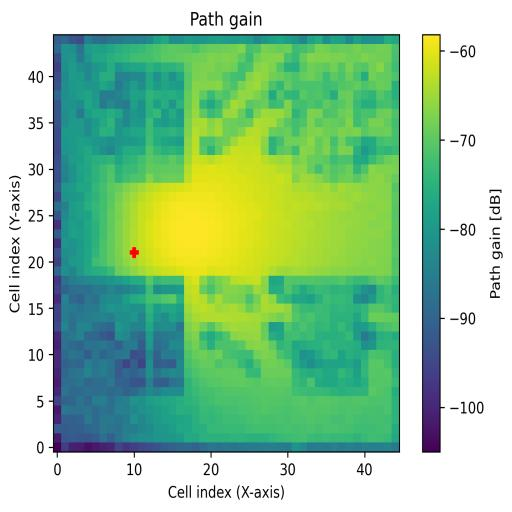Concrete: (292, 64, 361, 182)
Glass: (115, 63, 185, 183)
Metal: (292, 286, 369, 396)
Wood: (106, 277, 184, 397)
